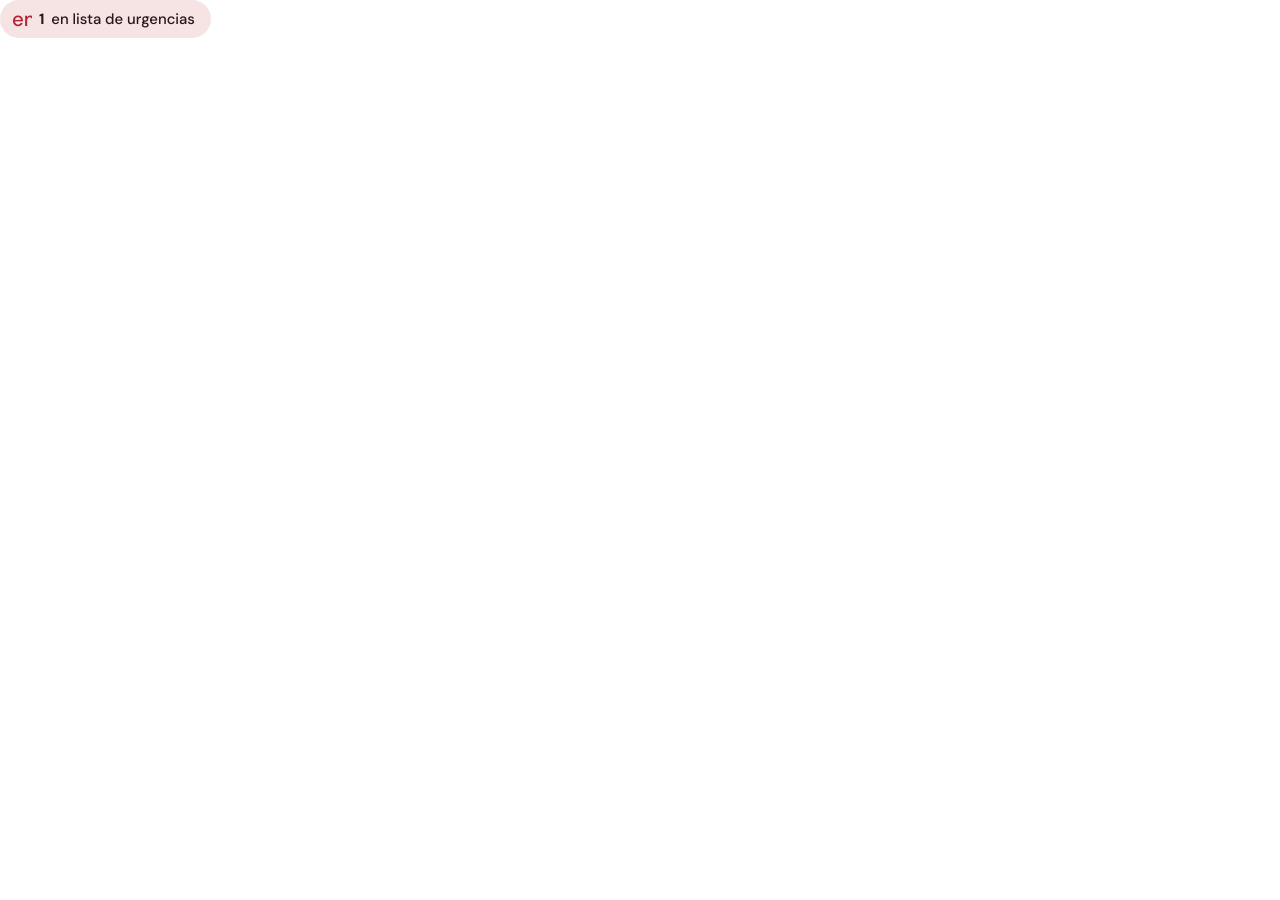
Test: AgendaAvisos · hoja › «urgencias» abre la hoja con nombre, folio, área, desde y enlace al expediente
Click the button "emergency 1 en lista de urgencias" at (106,19), box 0,0 -> 211,38
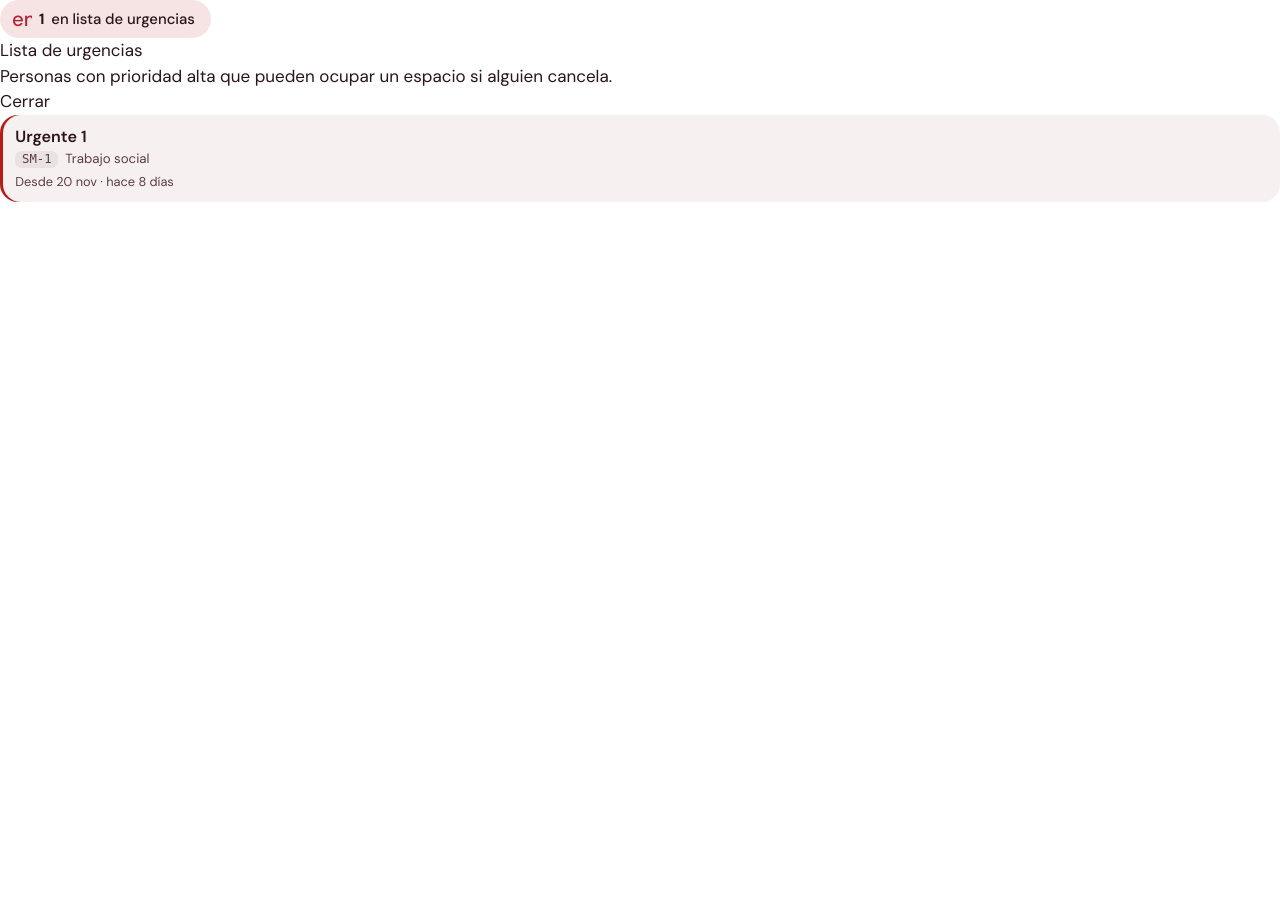
Expected: the heading "Lista de urgencias" is shown, 0,39 -> 142,61
Expected: the text "pueden ocupar un espacio si alguien cancela" is shown, 0,65 -> 612,87
Expected: the text "SM-1" is shown, 15,151 -> 58,168
